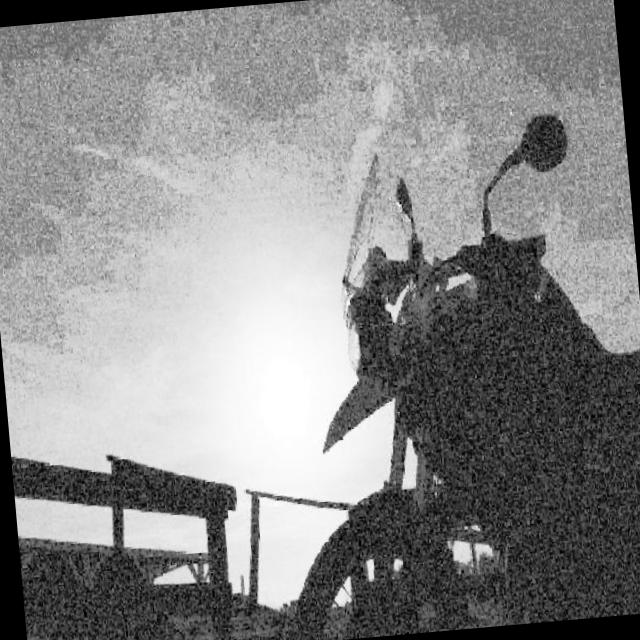Motorcycle: (285, 133, 640, 640)
